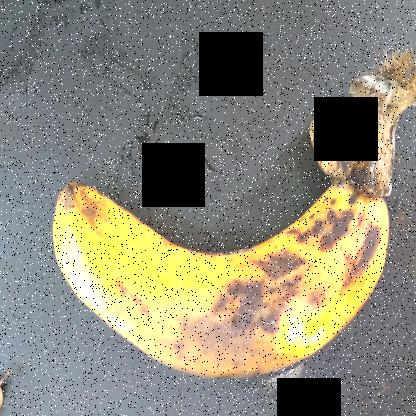overripe: (42, 156, 406, 401)
